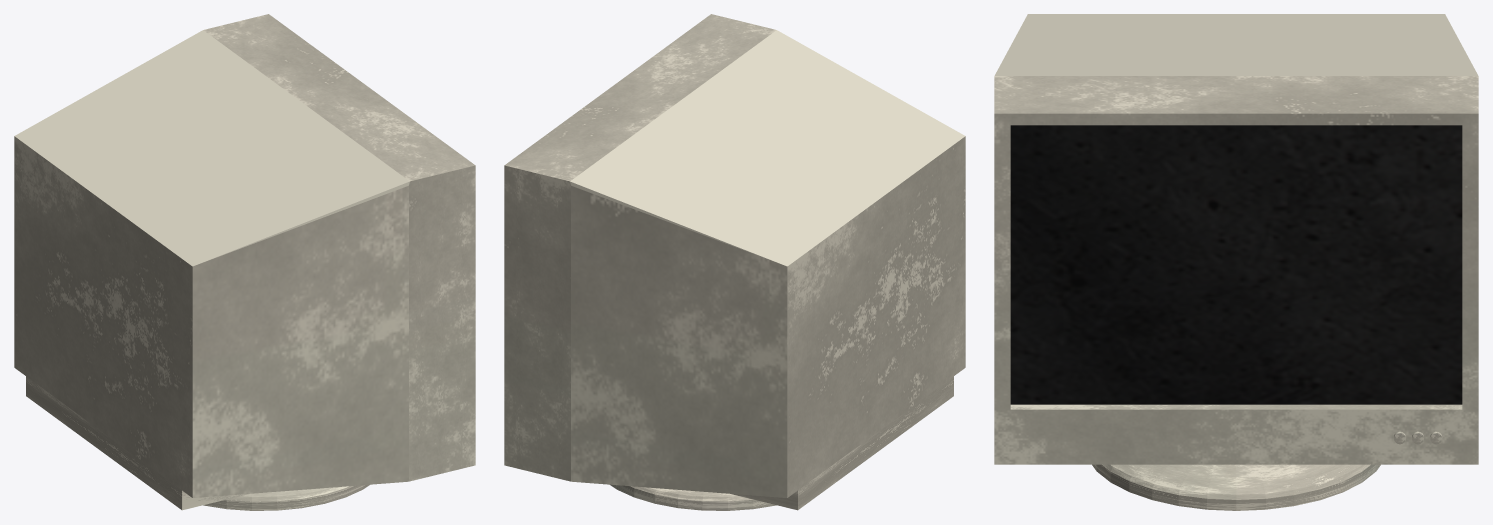
Rendered from monitor_v2a.fbx.
3 views of the same model, side by side, from view 1: azimuth 30°, elevation 25°; view 2: azimuth 150°, elevation 25°; view 3: azimuth 270°, elevation 25° (orthographic). The views are drawn at different scales.
Visible parts, largest first — view 1: Cube, Base; view 2: Cube, Base; view 3: Plane, Cube, Base.
Boxes of the visible parts, x1,y1,x2,y2 form: Cube: (14, 14, 475, 510); Base: (203, 484, 369, 510); Cube: (504, 14, 965, 510); Base: (610, 484, 776, 510); Plane: (1010, 125, 1462, 404); Cube: (994, 14, 1478, 464); Base: (1092, 464, 1380, 510).
Bounding box in the file's own units: 30.31 × 36.21 × 40.
2 materials, 2 textured.
